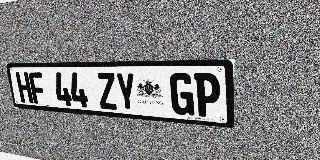4: (68, 72, 89, 108), (53, 72, 73, 106)
F: (28, 72, 47, 104)
G: (169, 73, 194, 116)
H: (15, 72, 34, 103)
P: (194, 73, 220, 118)
Y: (115, 73, 137, 111)
Z: (96, 72, 118, 110)
